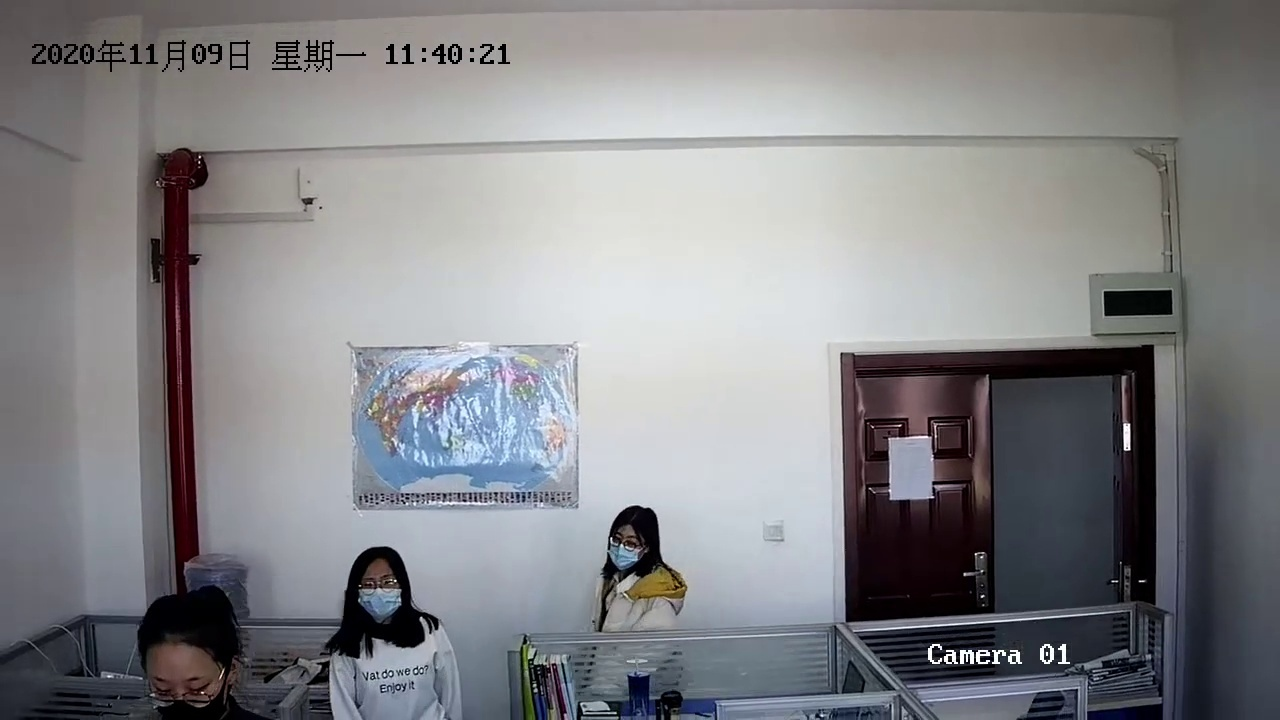mask: (139, 593, 231, 720), (343, 548, 417, 638), (602, 501, 664, 581)
